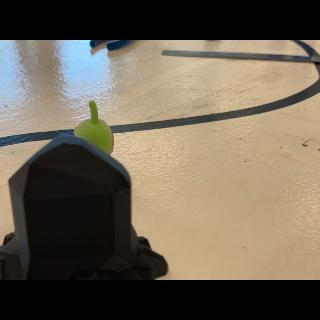teletubby: (74, 100, 114, 155)
